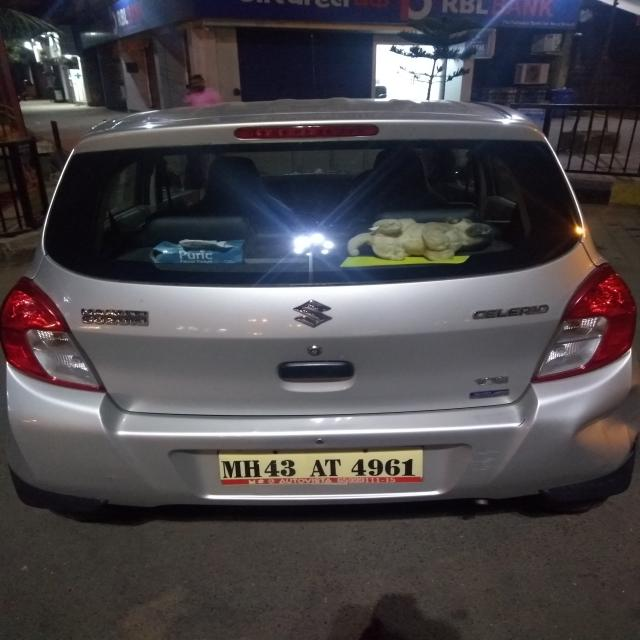Number-Plate: (218, 449, 425, 483)
